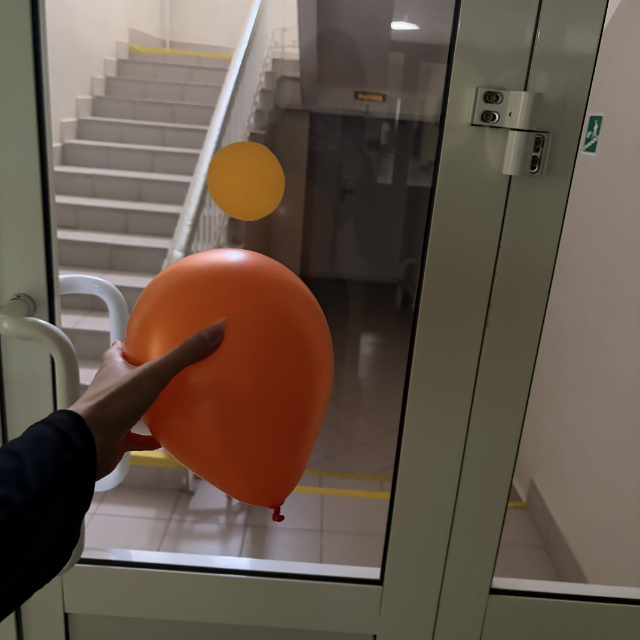balloon: (123, 247, 335, 522)
